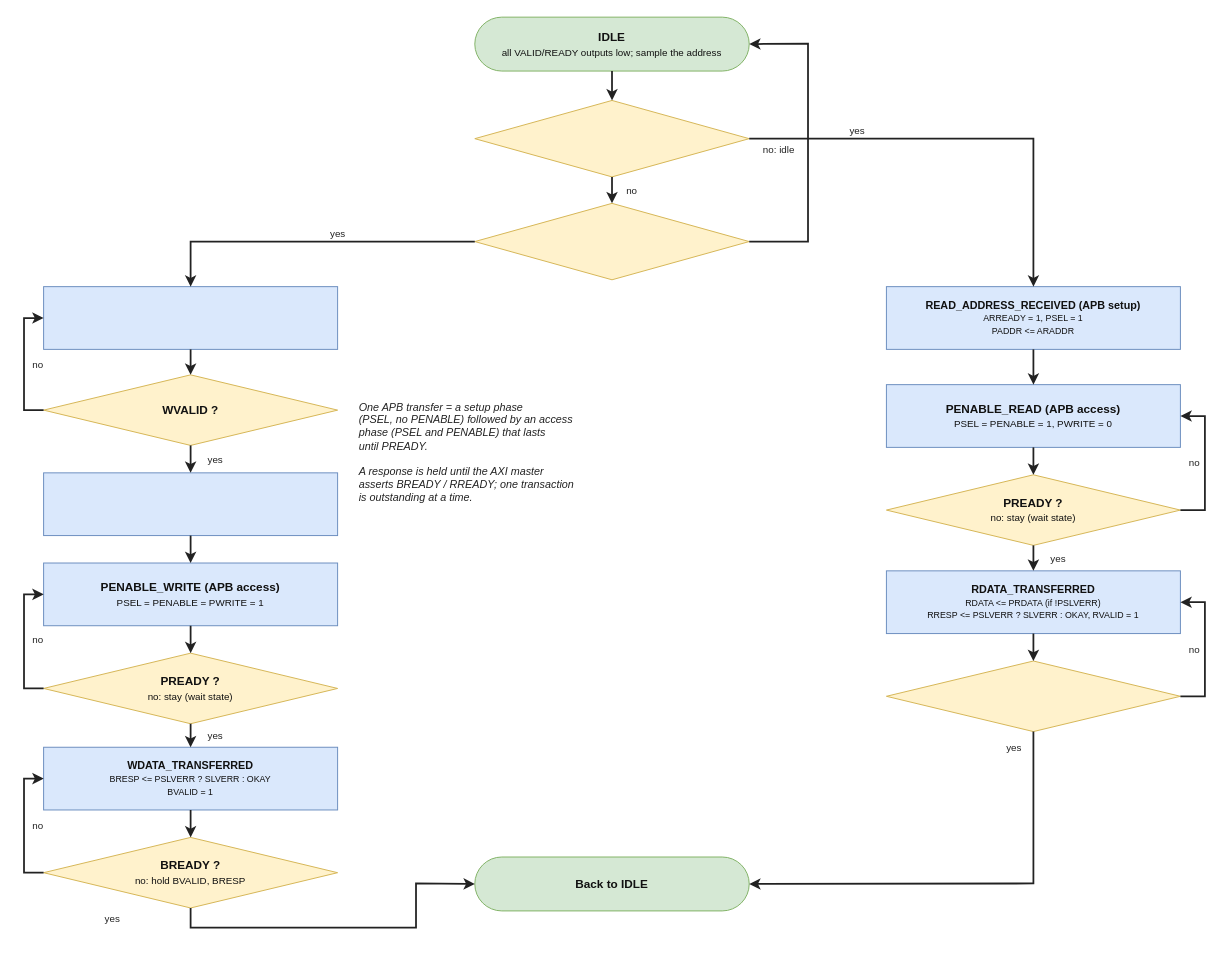
The diagram is 1231 pixels wide and 954 high, and some of its shapes have lost their labels. The shapes that lost their labels are listed below. From the top down, each one's box as (x1, y1, x2, y2) in pixels, then its label:
(474, 99, 749, 177): ARVALID ? read has priority
(474, 202, 749, 280): AWVALID ?
(43, 286, 338, 349): WRITE_ADDRESS_RECEIVED AWREADY = WREADY = 1
(43, 472, 338, 536): WRITE_DATA_RECEIVED (APB setup) PSEL = 1, PWRITE = 1 PADDR, PWDATA loaded
(885, 660, 1180, 732): RREADY ? no: hold RVALID, RDATA, RRESP
